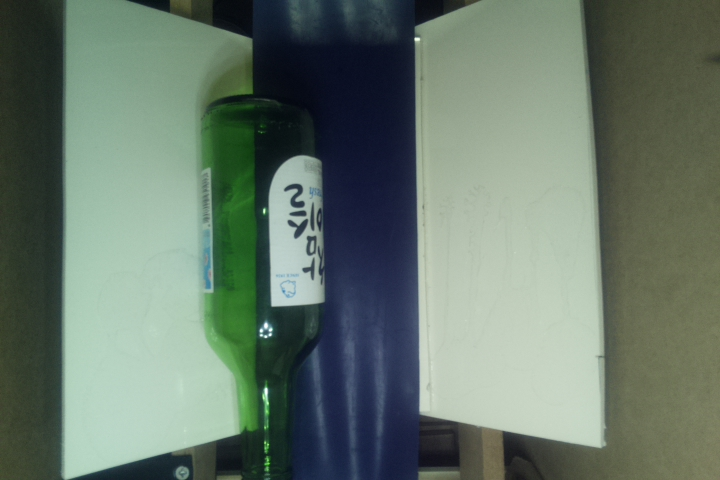soju: (200, 93, 327, 480)
